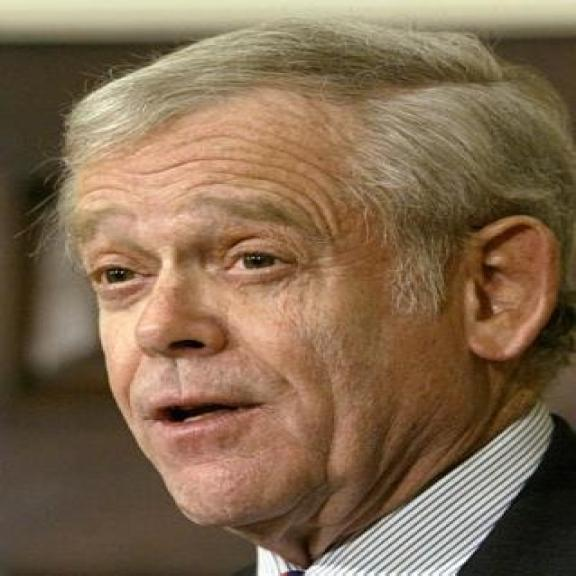face: (68, 102, 560, 522)
